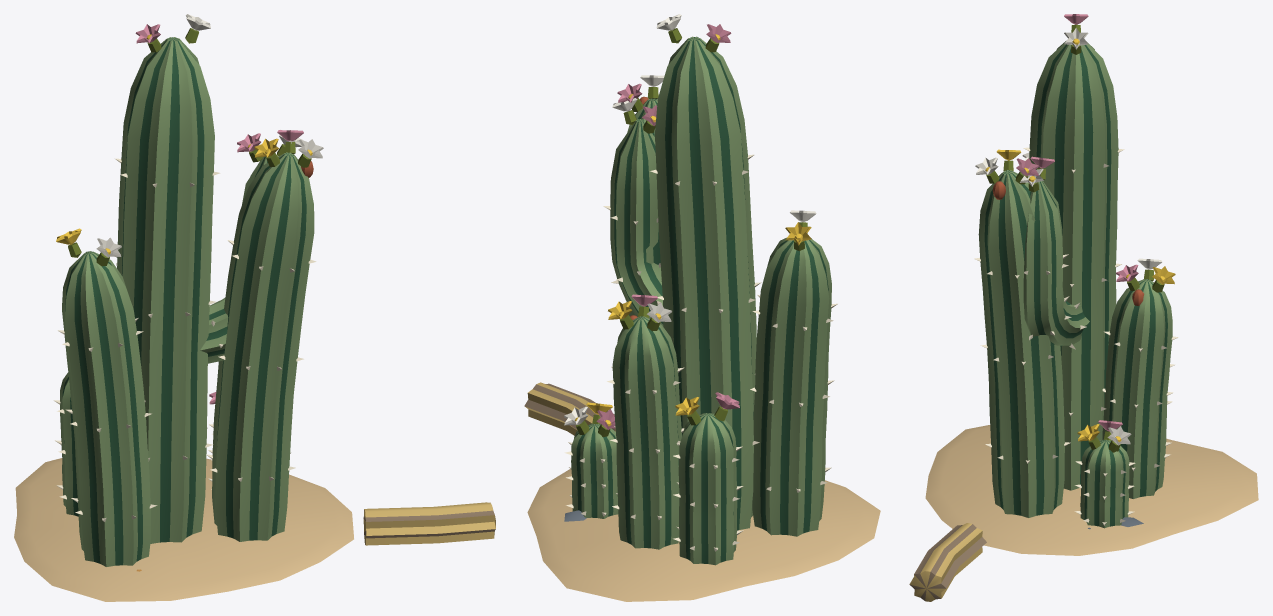
Rendered from deco_cactus_column.fbx.
3 renders of one model, left to right at view 1: azimuth 30°, elevation 25°; view 2: azimuth 150°, elevation 25°; view 3: azimuth 270°, elevation 25°, orthographic. The views are drawn at different scales.
Parts seen in each view (by area): view 1: Cactus_Column_Columns, Cactus_Column_Base, Cactus_Column_Flowers; view 2: Cactus_Column_Columns, Cactus_Column_Base, Cactus_Column_Flowers; view 3: Cactus_Column_Columns, Cactus_Column_Base, Cactus_Column_Flowers.
Boxes of the visible parts, bbox=[...] form: Cactus_Column_Columns: bbox=[53, 37, 316, 566]; Cactus_Column_Base: bbox=[14, 458, 495, 601]; Cactus_Column_Flowers: bbox=[56, 14, 323, 404]; Cactus_Column_Columns: bbox=[564, 36, 837, 565]; Cactus_Column_Base: bbox=[524, 382, 880, 601]; Cactus_Column_Flowers: bbox=[564, 14, 816, 436]; Cactus_Column_Columns: bbox=[974, 41, 1178, 528]; Cactus_Column_Base: bbox=[909, 425, 1258, 601]; Cactus_Column_Flowers: bbox=[975, 14, 1175, 452].
Size of the model in its own units: 248 by 312 by 208.
